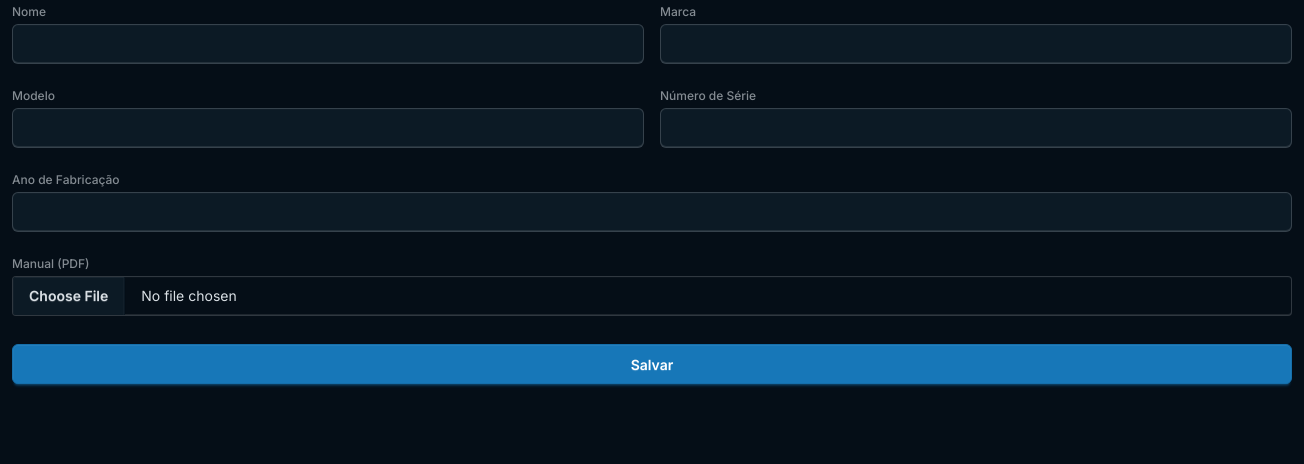
Scenario: MachineForm — validação › exibe erros de validação nos campos obrigatórios ao submeter vazio
The image size is (1304, 464).
Click the button "Salvar". click: [652, 364]
box: [12,344,1292,384]
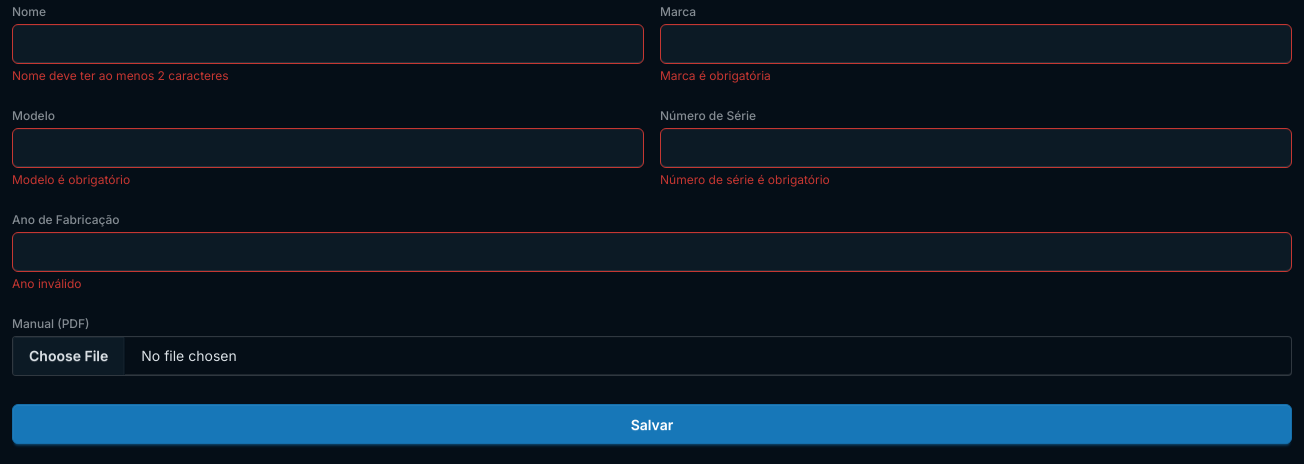
Expected: the text "Nome deve ter ao menos 2 caracteres" is shown, [12,68,229,83]
Expected: the text "Ano inválido" is shown, [12,276,82,291]
